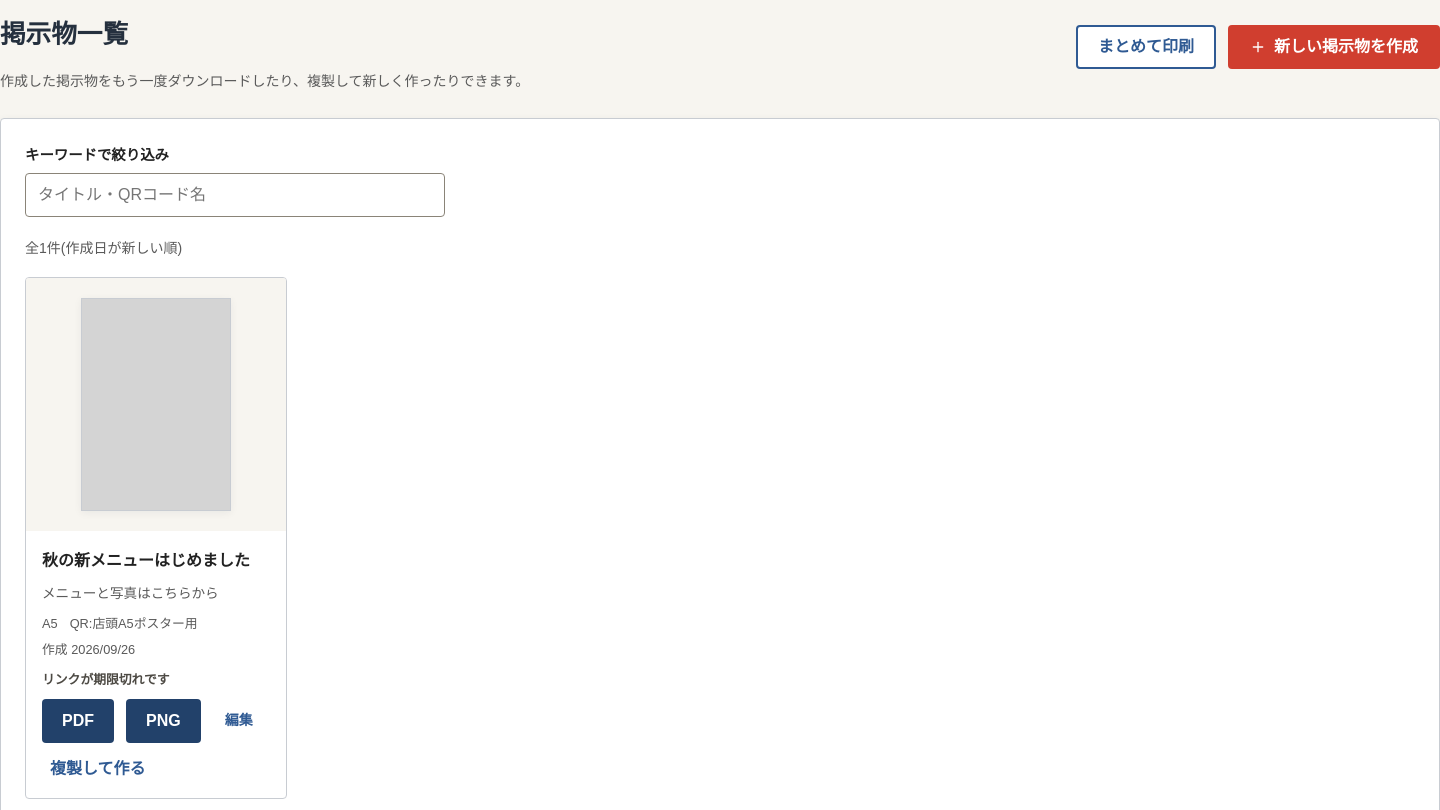
Test case: PosterListPage › リンクが期限切れの掲示物は注意書きを出し、書き出す前に編集画面と同じ確認ダイアログを出す。「このまま書き出す」で書き出す
The image size is (1440, 810).
Check: the text "リンクが期限切れです" is shown, box [42,672,170,687]
Click the button with aria-label "秋の新メニューはじめましたをPDFでダウンロード".
click(78, 721)  # box [42,699,114,743]
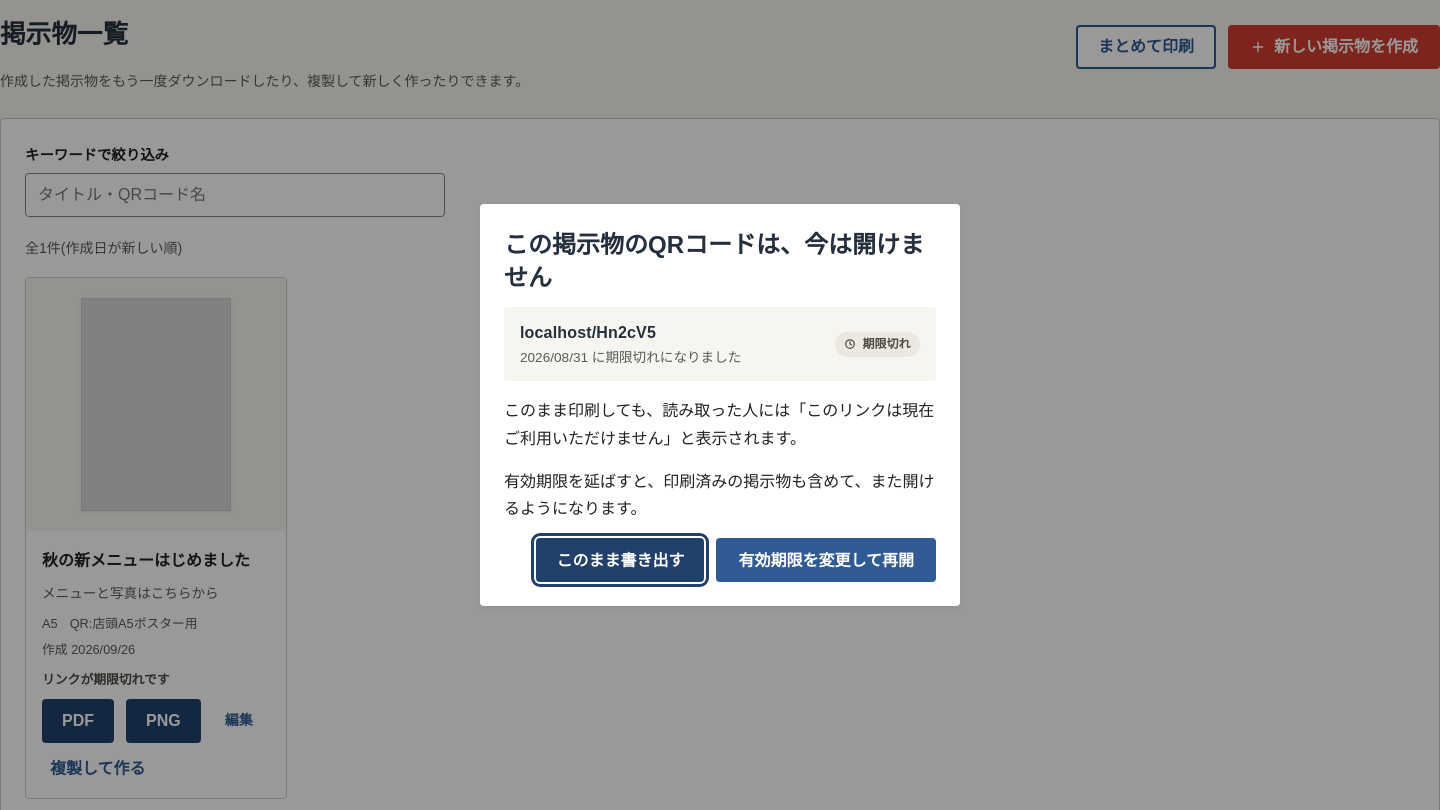
Check: the text "Hn2cV5" is shown, box [596,324,656,341]
Check: the text "2026/08/31 に期限切れになりました" is shown, box [520,346,741,369]
Click the button "このまま書き出す".
click(620, 560)  # box [536,538,704,582]
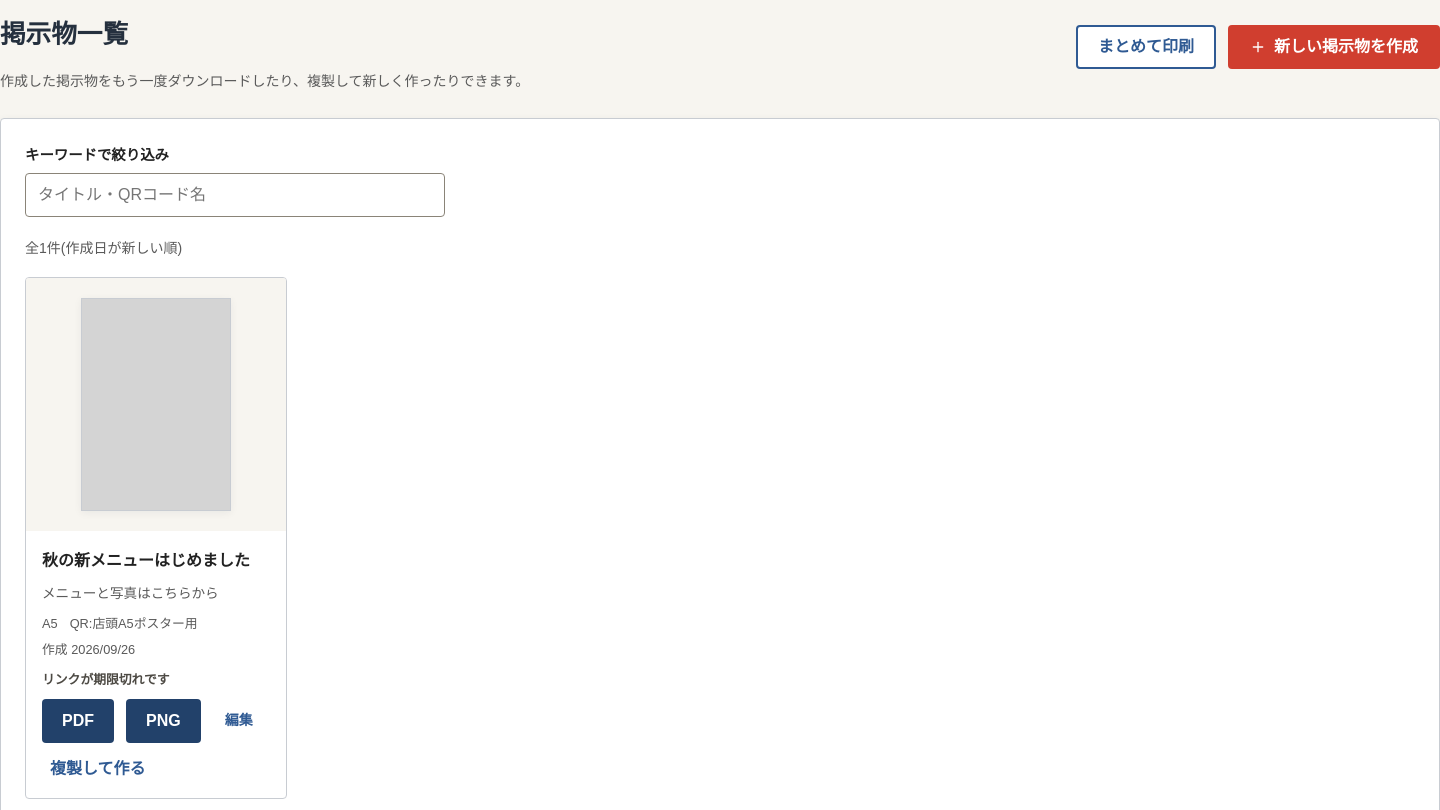
Check: the dialog is gone
